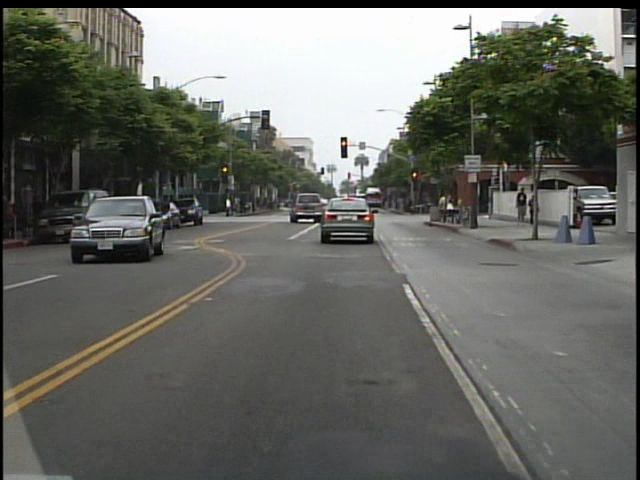person: (513, 184, 529, 228), (434, 189, 453, 224), (527, 191, 541, 227), (222, 193, 236, 221)
